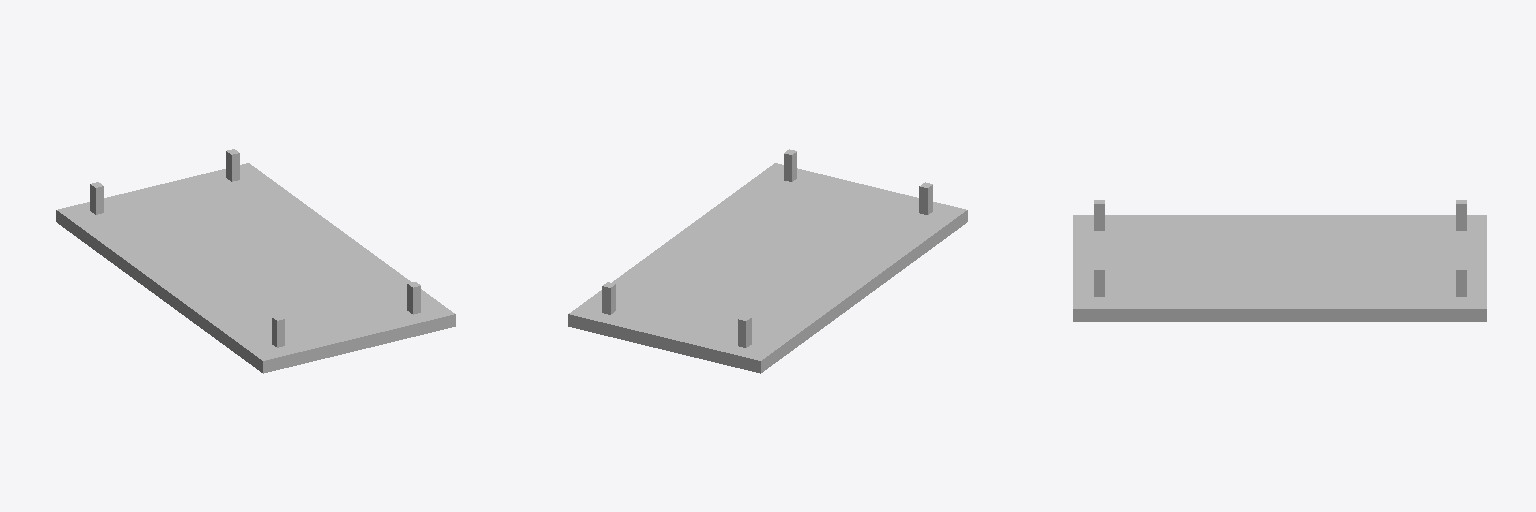
The model's file is light.obj.
The picture shows the model from 3 angles: view 1: azimuth 30°, elevation 25°; view 2: azimuth 150°, elevation 25°; view 3: azimuth 270°, elevation 25°; orthographic projection.
Parts seen in each view (by area): view 1: Cube; view 2: Cube; view 3: Cube.
Part boxes in pixels (left/top/right/bottom): Cube: left=56, top=163, right=455, bottom=373; Cube: left=568, top=163, right=967, bottom=373; Cube: left=1073, top=215, right=1486, bottom=321.
Size of the model in its own units: 2 by 0.4166 by 3.72.